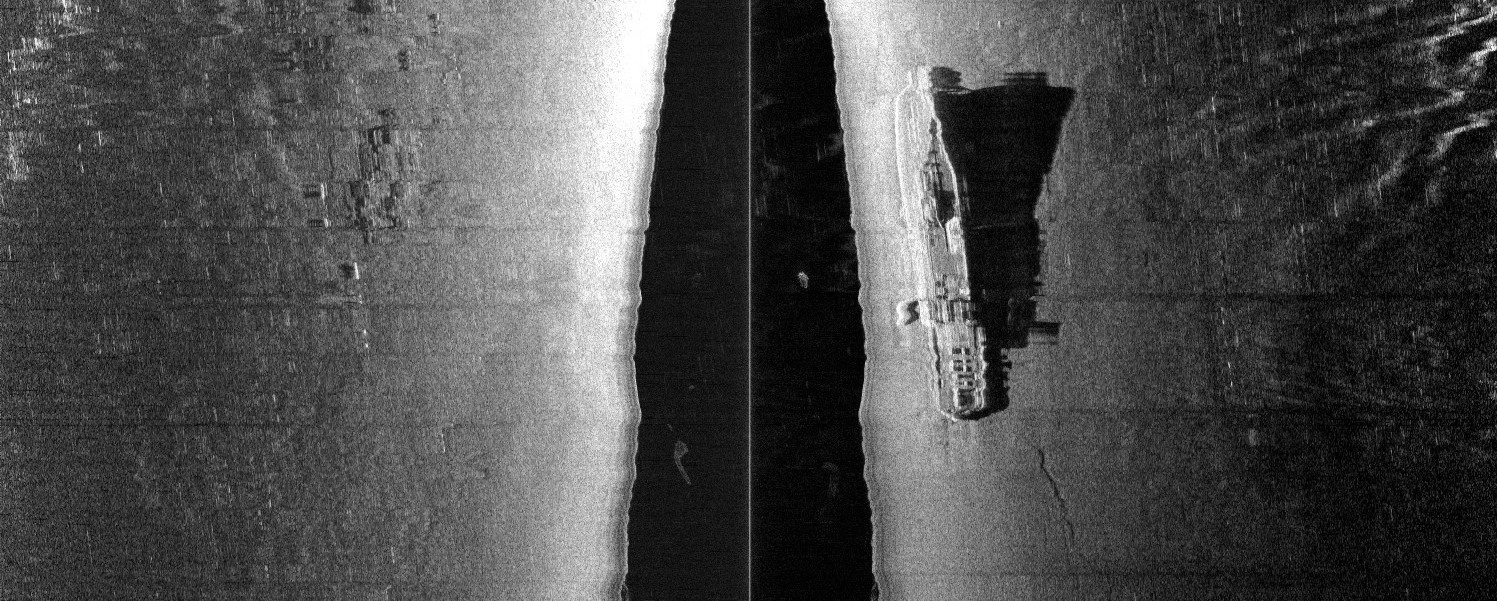ship: (889, 65, 994, 421)
